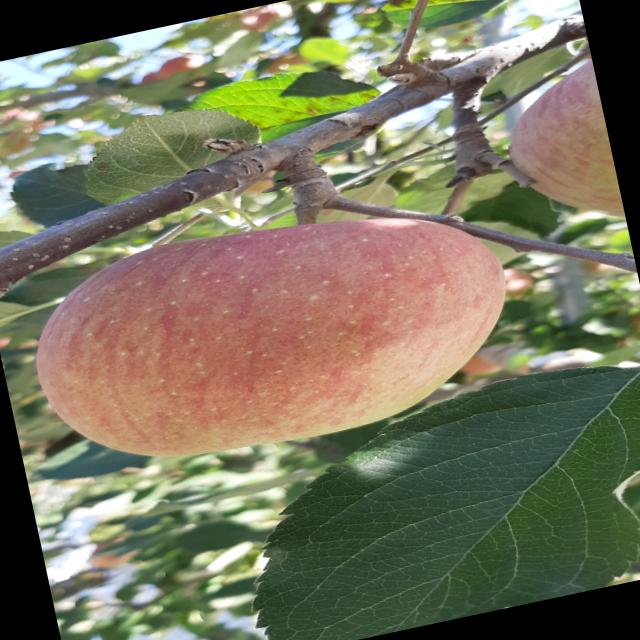fresh: (5, 166, 542, 501)
